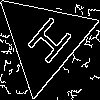H: (19, 15, 75, 74)
